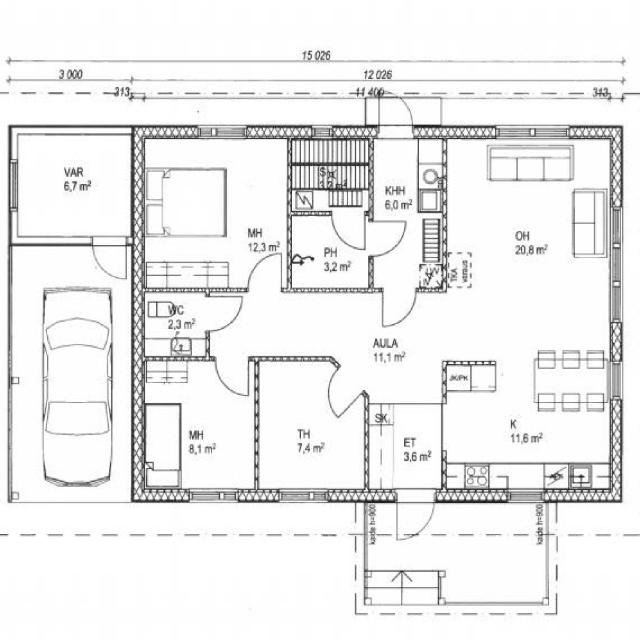door: (286, 208, 372, 295), (321, 363, 366, 418), (85, 233, 133, 283), (393, 492, 437, 542), (373, 91, 417, 140), (212, 355, 253, 401), (202, 291, 245, 334), (366, 216, 410, 258), (244, 248, 285, 293), (330, 206, 368, 254), (378, 286, 418, 330)
window: (490, 122, 572, 145), (604, 250, 626, 332), (605, 191, 628, 255), (184, 486, 242, 508), (274, 486, 332, 507), (605, 356, 628, 406), (4, 157, 22, 216), (204, 123, 249, 143), (506, 489, 544, 503)
zone: (429, 137, 613, 289), (437, 387, 618, 495), (140, 356, 260, 502), (252, 358, 367, 496), (9, 126, 135, 244), (142, 149, 228, 291), (41, 316, 114, 440), (286, 211, 372, 295), (369, 137, 443, 216), (144, 290, 210, 359), (43, 424, 111, 488), (538, 354, 607, 406)
